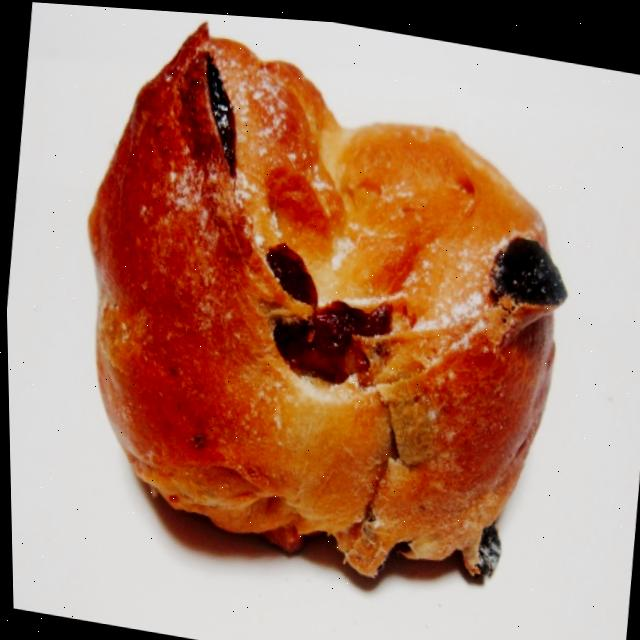面包点心: (56, 3, 602, 622)
